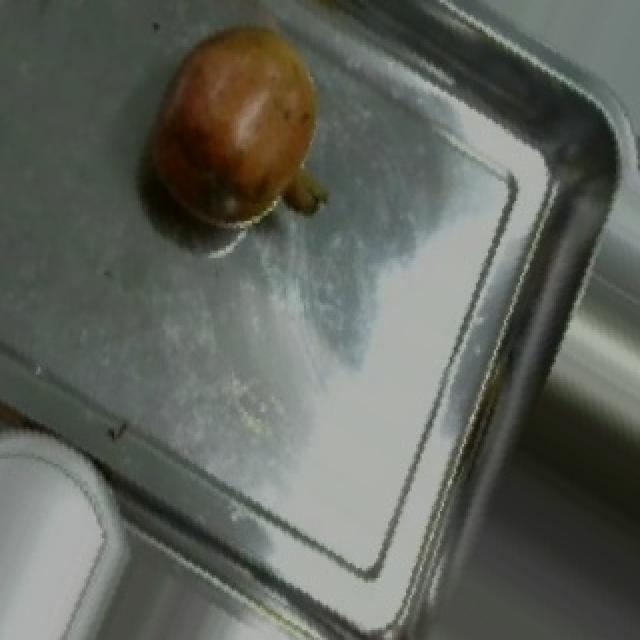fruit: (122, 0, 352, 263)
